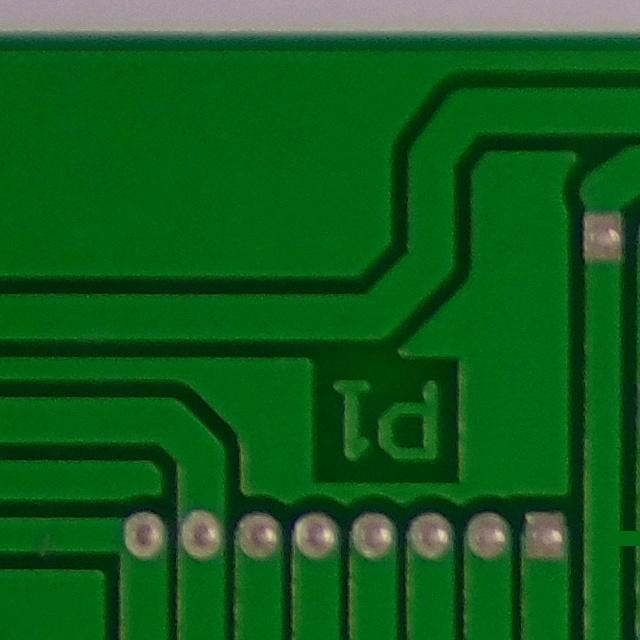short: (595, 497, 640, 584)
